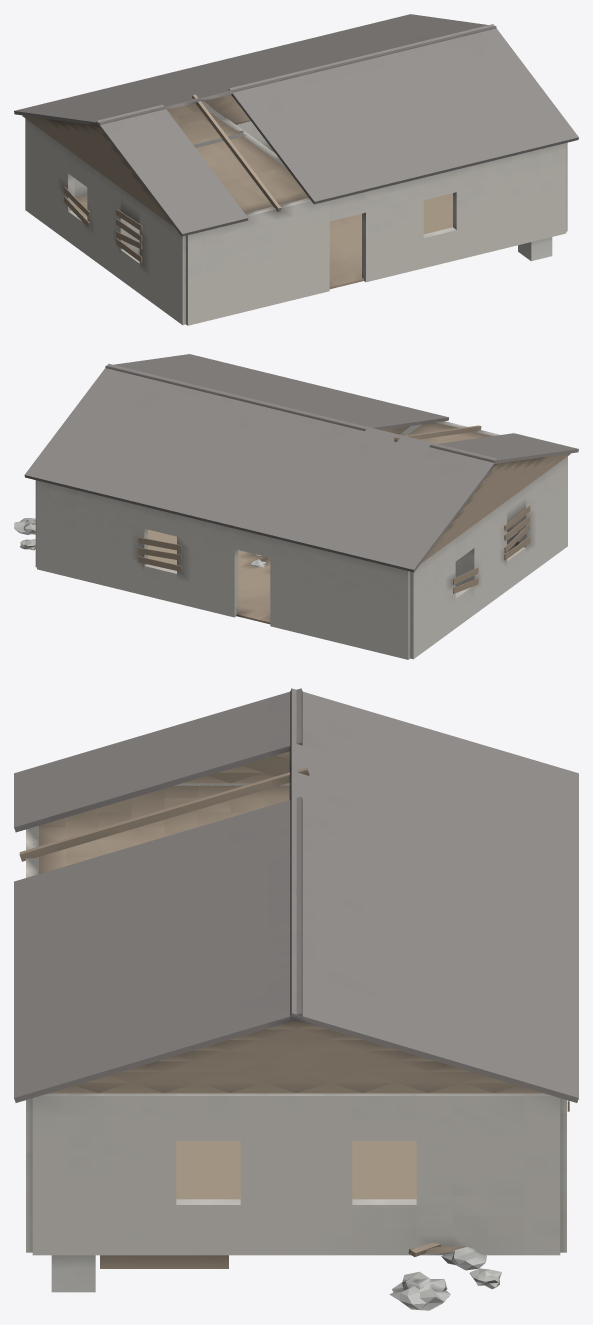
The model's file is casa_r5.glb.
3 renders of one model, top to bottom at view 1: azimuth 30°, elevation 25°; view 2: azimuth 150°, elevation 25°; view 3: azimuth 270°, elevation 25°, orthographic. The views are drawn at different scales.
Parts seen in each view (by area): view 1: telhado, ext0_0, ext0_3, forro, telhado_oitao0, chao, telhado_vigas, ext0_3_tabua_60, geladeira, int_0, ext0_2, ext0_3_tabua_30; view 2: telhado, ext0_2, ext0_3, telhado_oitao0, chao, ext0_2_tabua_41, forro, ext0_3_tabua_60, entulho_fora, telhado_vigas; view 3: telhado, ext0_1, telhado_oitao2, forro, chao, entulho_fora, telhado_vigas, balcao, geladeira, telhado_oitao0, ext0_0, ext0_2.
Boxes of the visible parts, x1,y1,x2,y2 form: telhado: (14, 14, 578, 236); ext0_0: (186, 143, 566, 325); ext0_3: (25, 118, 185, 325); forro: (167, 94, 308, 213); telhado_oitao0: (22, 115, 174, 227); chao: (74, 150, 452, 289); telhado_vigas: (192, 94, 281, 211); ext0_3_tabua_60: (116, 209, 142, 262); geladeira: (518, 237, 552, 261); int_0: (201, 101, 285, 167); ext0_2: (74, 121, 272, 197); ext0_3_tabua_30: (63, 187, 89, 228); telhado: (24, 354, 578, 572); ext0_2: (37, 480, 410, 659); ext0_3: (410, 456, 567, 659); telhado_oitao0: (421, 453, 570, 563); chao: (148, 529, 508, 624); ext0_2_tabua_41: (138, 537, 181, 571); forro: (381, 422, 490, 443); ext0_3_tabua_60: (504, 506, 530, 560); entulho_fora: (14, 518, 35, 550); telhado_vigas: (394, 425, 481, 441); telhado: (14, 688, 578, 1102); ext0_1: (32, 1093, 560, 1255); telhado_oitao2: (50, 1020, 542, 1093); forro: (32, 783, 289, 873); chao: (176, 1141, 416, 1199); entulho_fora: (389, 1242, 501, 1310); telhado_vigas: (19, 767, 309, 861); balcao: (100, 1255, 228, 1268); geladeira: (51, 1255, 95, 1292); telhado_oitao0: (183, 751, 289, 783); ext0_0: (26, 825, 38, 1252); ext0_2: (560, 1098, 566, 1252).
Size of what is drawn, in the model's own units: 14.88 by 5.51 by 9.63.
